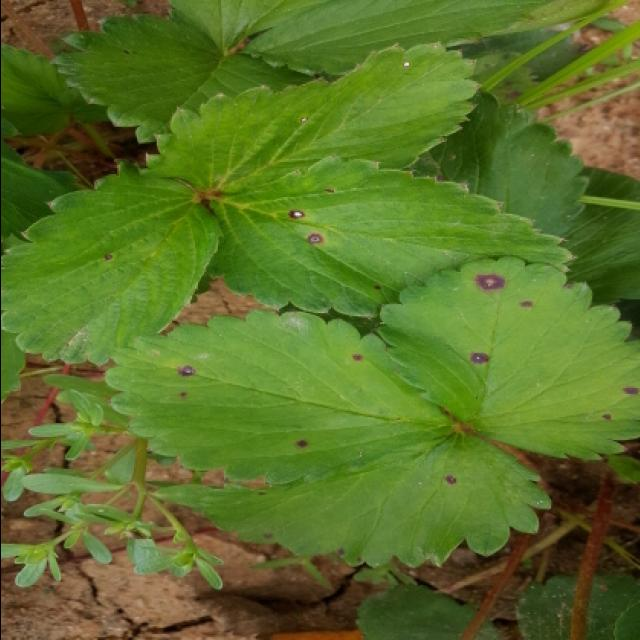Leaf Spot: (104, 307, 462, 483), (205, 153, 576, 319), (150, 428, 553, 571), (375, 256, 640, 462), (144, 41, 480, 193), (2, 161, 219, 369)
